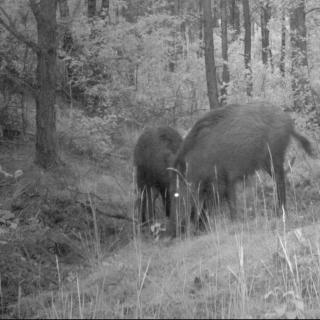Pig: (162, 98, 313, 239)
